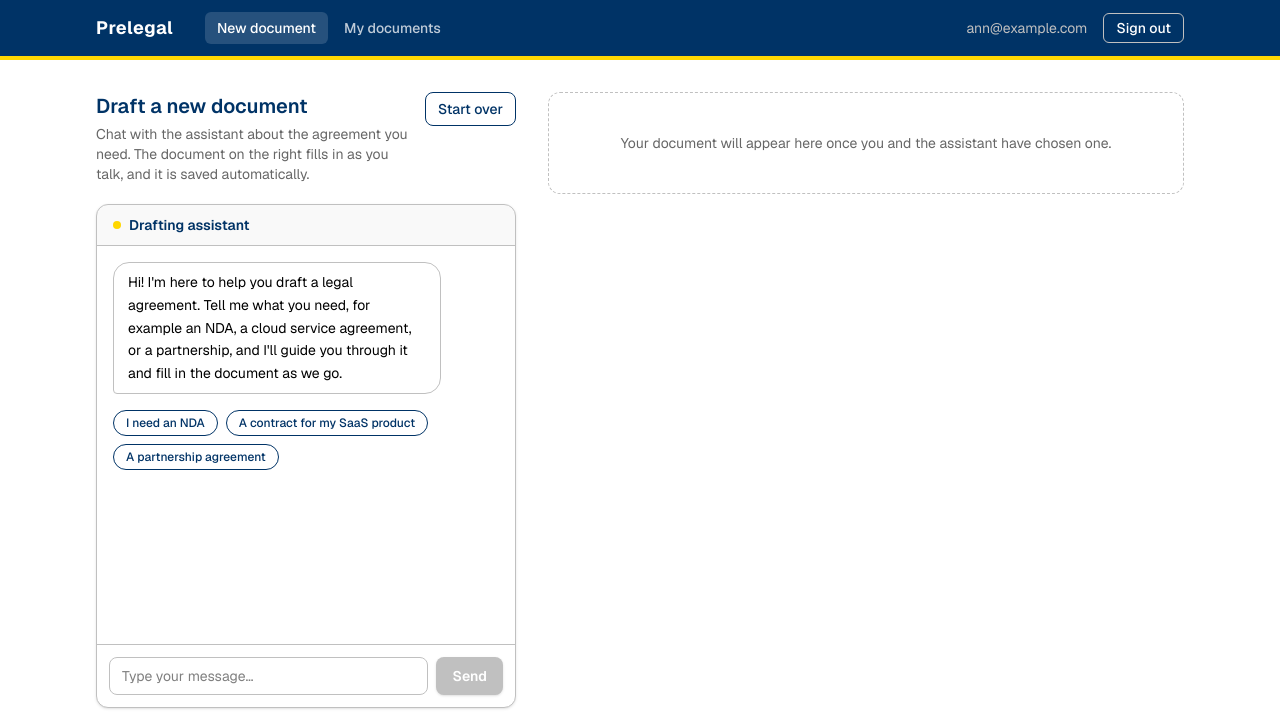
Test: PlatformApp › moves keyboard focus to the new screen when navigating
What coordinates should you click on to do the following:
click the button "My documents"
I would click on:
 (392, 28)
Its box is [332,12,453,44].
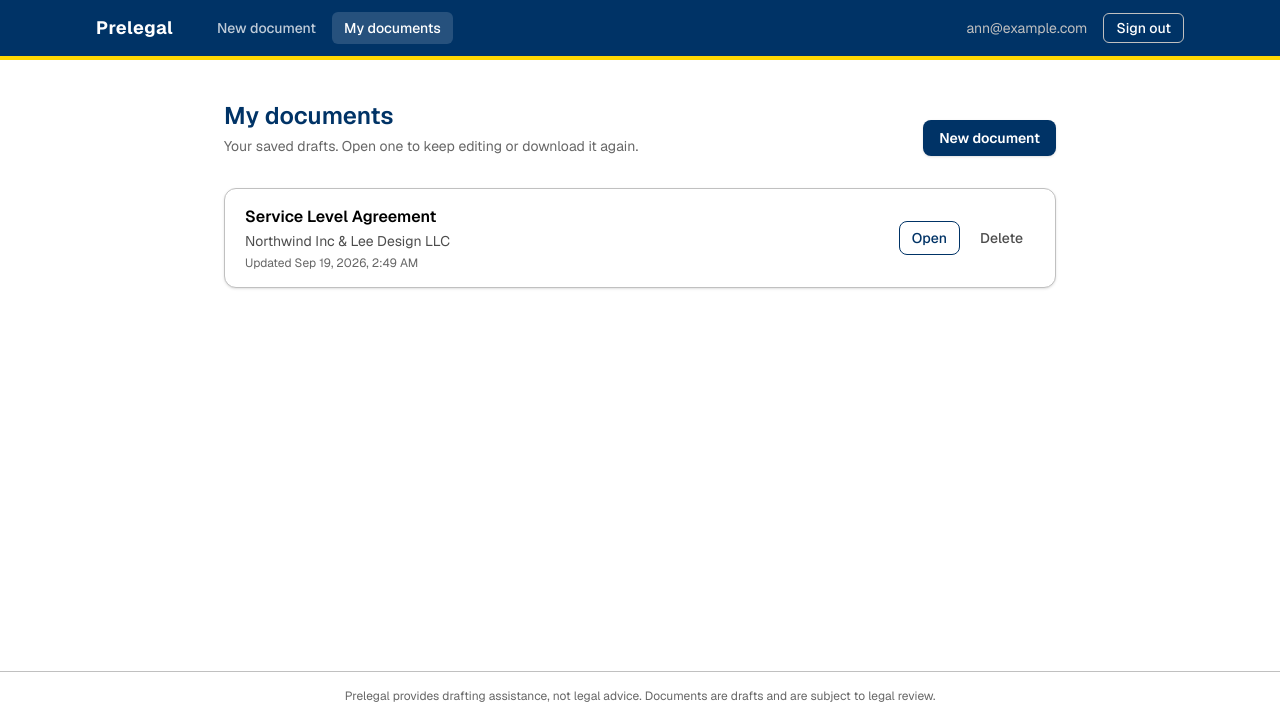
Expected: the heading "My documents" is shown, [224,100,393,131]
